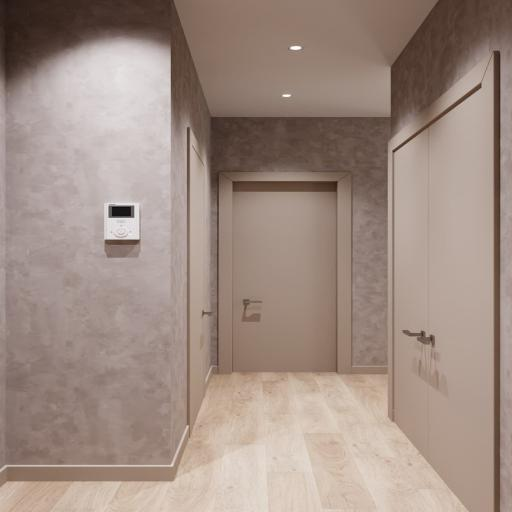corridor: (429, 77, 498, 511), (233, 182, 336, 371), (394, 131, 430, 457), (188, 130, 205, 430)
curb: (1, 4, 498, 512)
